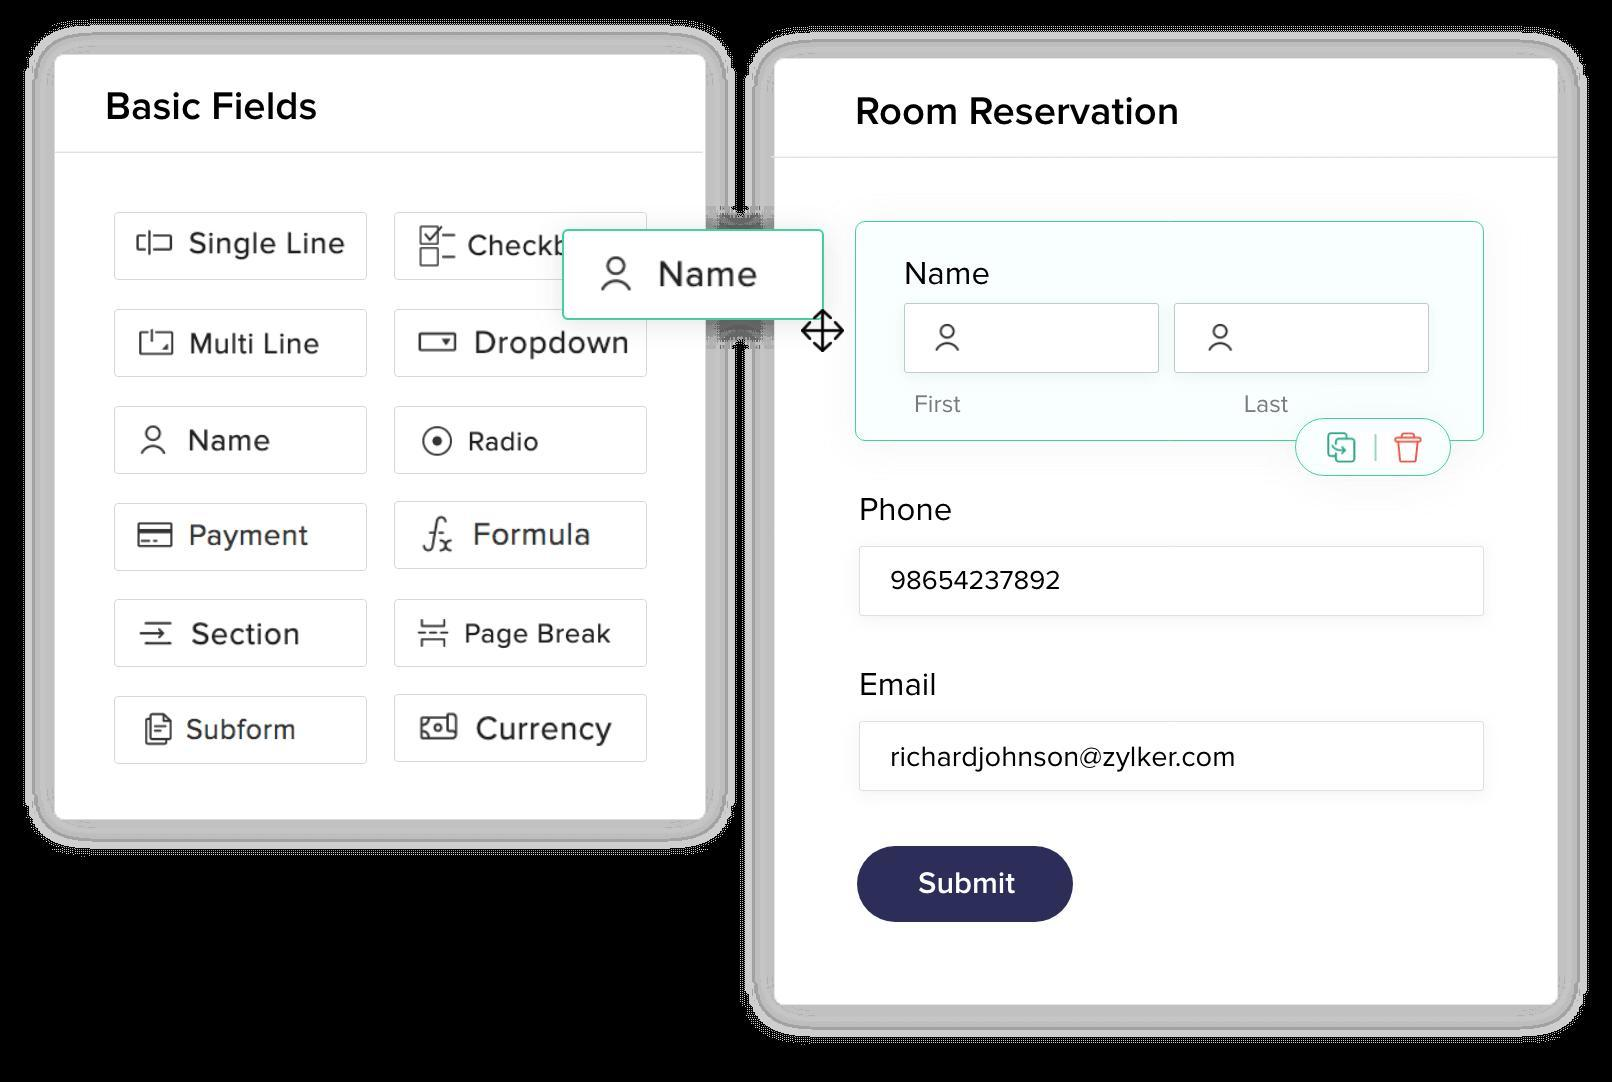button: (112, 210, 371, 285), (395, 696, 650, 766), (114, 407, 367, 477), (392, 406, 650, 475), (395, 502, 651, 571), (115, 697, 368, 766), (116, 309, 367, 378), (396, 307, 646, 376), (856, 844, 1073, 923), (116, 505, 369, 571), (115, 603, 368, 667), (396, 603, 650, 667)
icon: (412, 220, 465, 270), (127, 510, 181, 557), (133, 607, 181, 657), (412, 705, 465, 746), (139, 700, 179, 754), (133, 322, 182, 363), (409, 325, 465, 360), (130, 220, 179, 260), (136, 411, 173, 463), (413, 417, 454, 461), (418, 611, 454, 661), (421, 511, 456, 560), (1319, 427, 1362, 466), (1389, 430, 1428, 469)
input: (856, 541, 1490, 619), (856, 720, 1489, 797), (1174, 302, 1432, 376), (904, 306, 1159, 376)
label: (894, 256, 999, 297), (859, 491, 961, 529), (849, 670, 942, 704)
